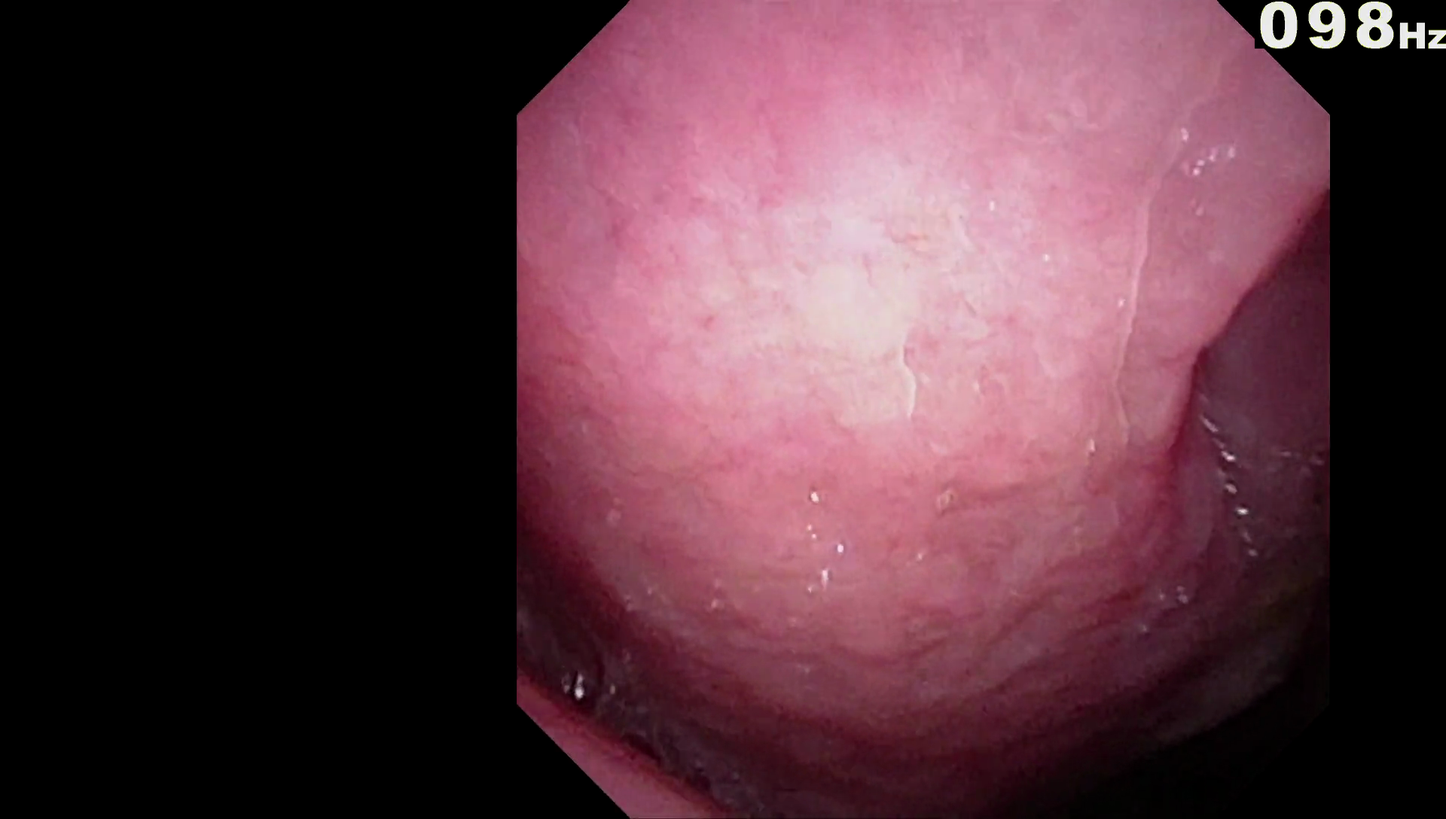close_wall: (581, 71, 1197, 540)
next: (926, 642, 1232, 809)
